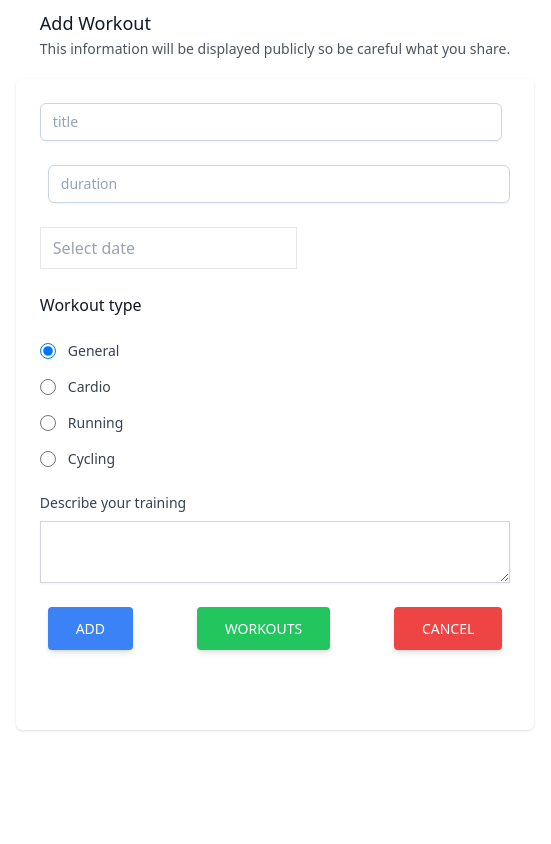
AddWorkout › tests for form fields validation › should display required error when title value is longer than 50 letters
In the field with placeholder "title": (271, 122) [40,103,502,141], type "convallis convenire conveniunt conversa conversam i"
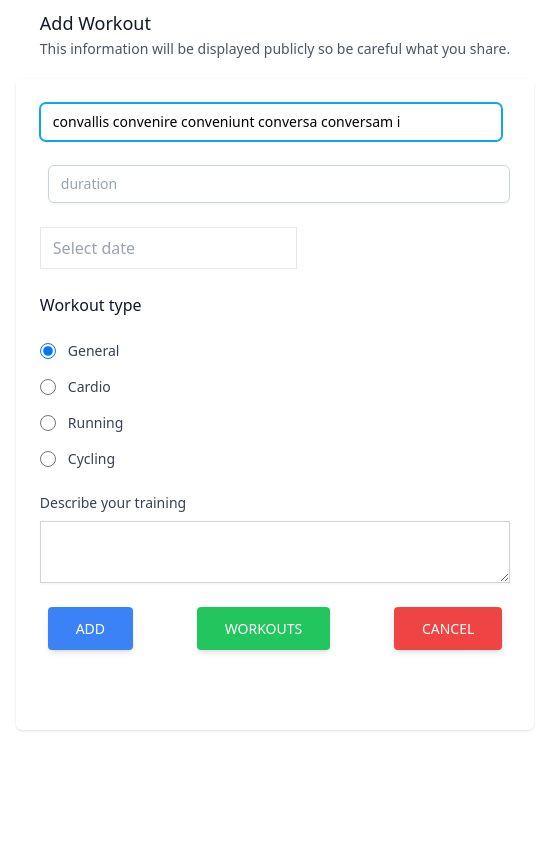
Submit the form from the button "Add", box [48,607,133,650]
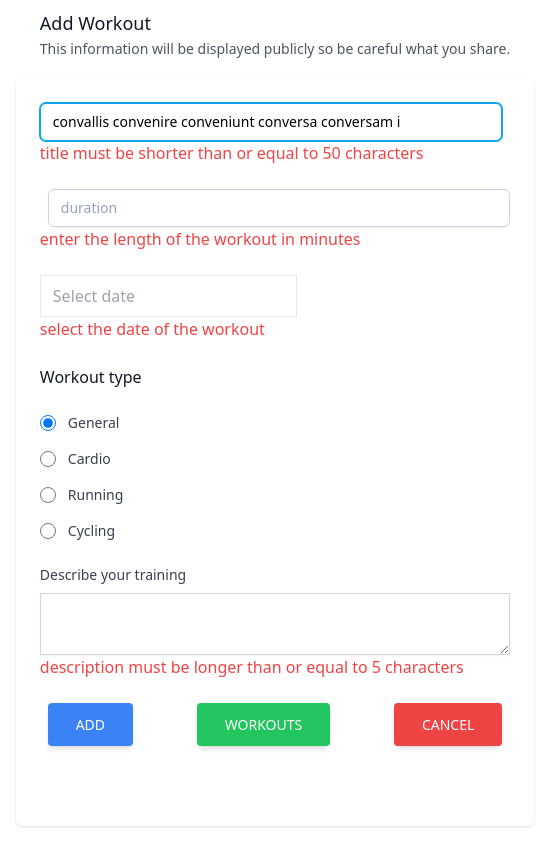
Expected: the text "title must be shorter" is shown, [40,142,424,164]
